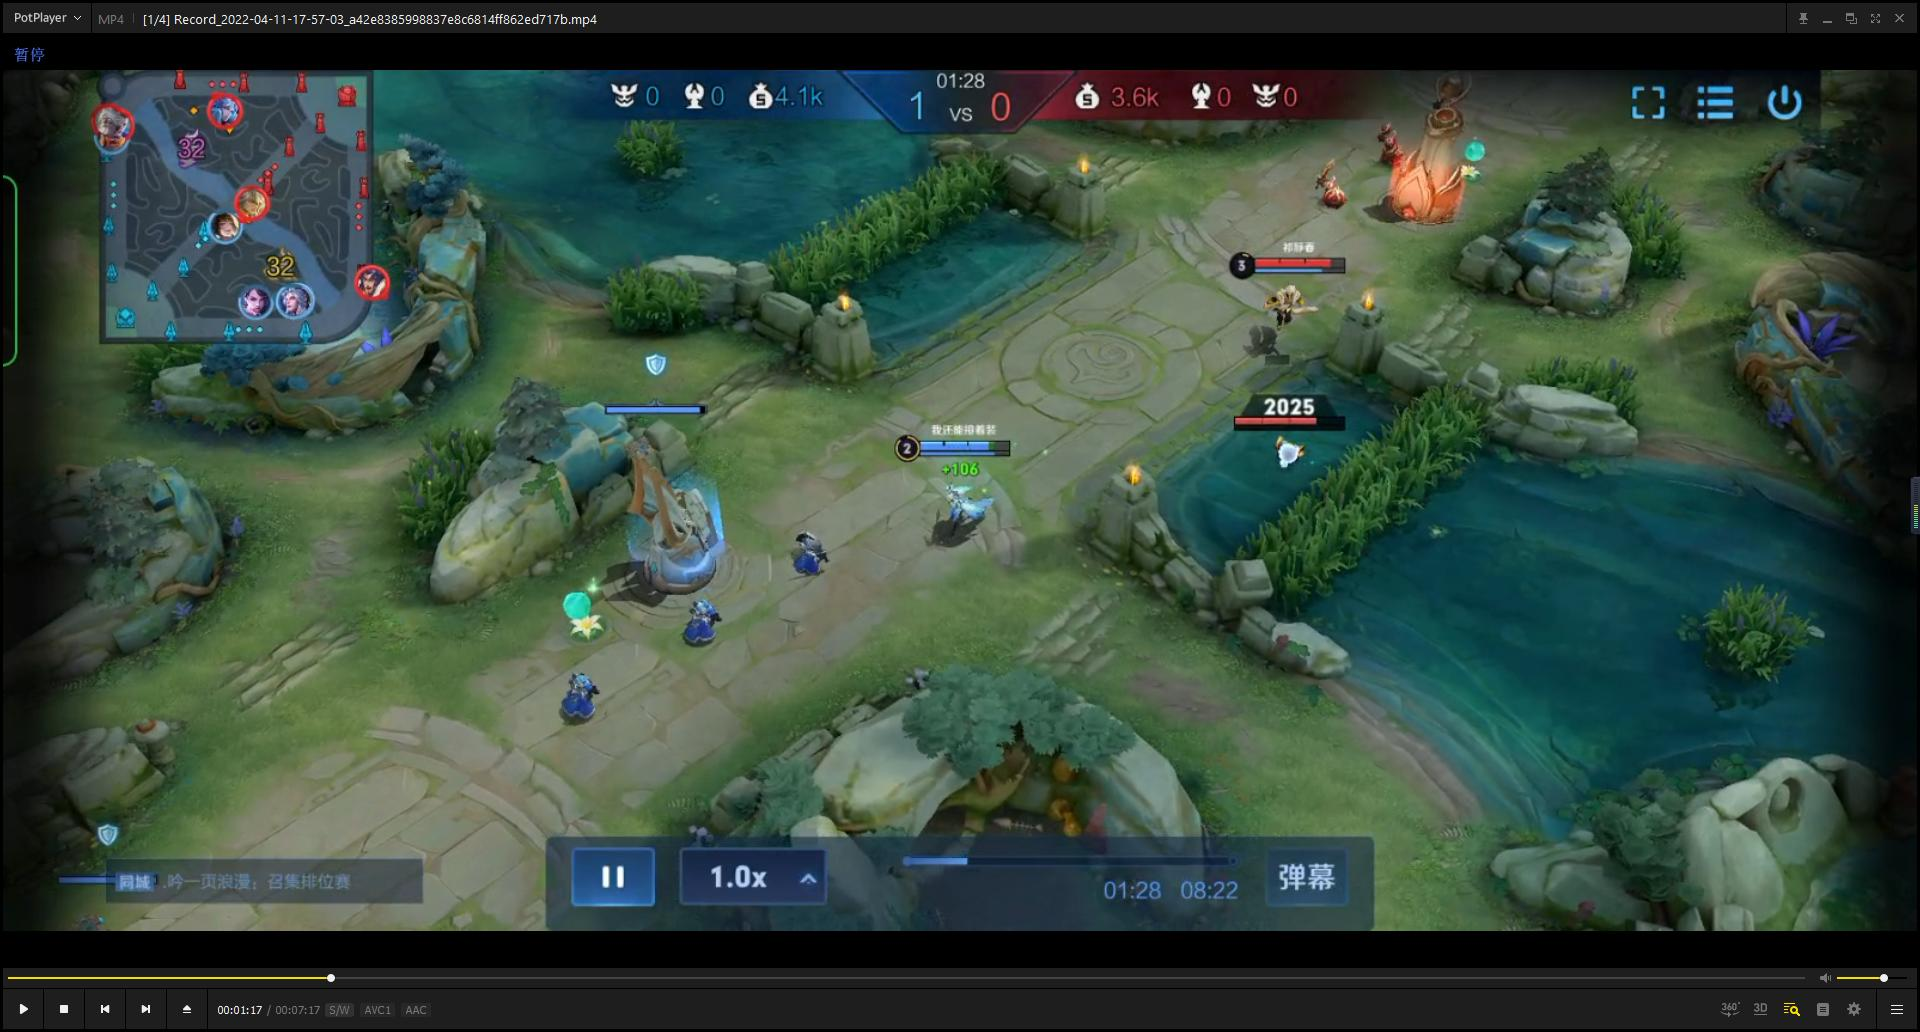Hero: (923, 480, 1020, 559), (1233, 276, 1329, 346)
Solider: (545, 637, 632, 731), (764, 505, 859, 586), (665, 586, 745, 657), (1294, 137, 1367, 207), (1355, 100, 1428, 158)
Spirit: (1210, 389, 1341, 466)
Tower: (564, 386, 773, 602), (1360, 70, 1496, 230)
